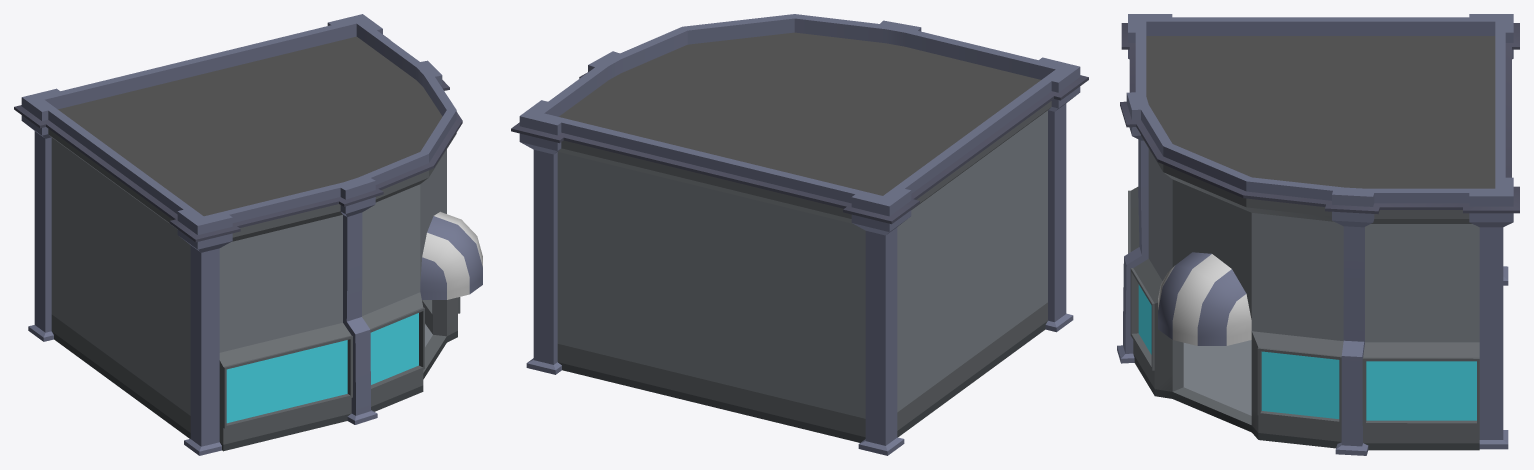
File: SM_Buildings_Commercial_08.fbx
3 views of the same model, side by side, from view 1: azimuth 30°, elevation 25°; view 2: azimuth 150°, elevation 25°; view 3: azimuth 270°, elevation 25° (orthographic). The views are drawn at different scales.
Parts seen in each view (by area): view 1: SM_Buildings_Commercial_08; view 2: SM_Buildings_Commercial_08; view 3: SM_Buildings_Commercial_08.
Boxes of the visible parts, box(x1,y1,x2,y2) form: SM_Buildings_Commercial_08: box(14, 14, 482, 455); SM_Buildings_Commercial_08: box(511, 14, 1088, 455); SM_Buildings_Commercial_08: box(1117, 14, 1519, 455).
Bounding box in the file's own units: 8.61 × 5.4 × 7.73.
